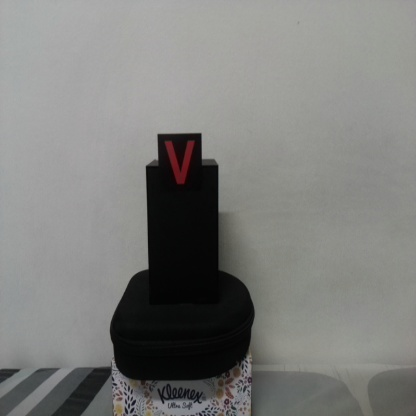id_11: (158, 133, 202, 191)
